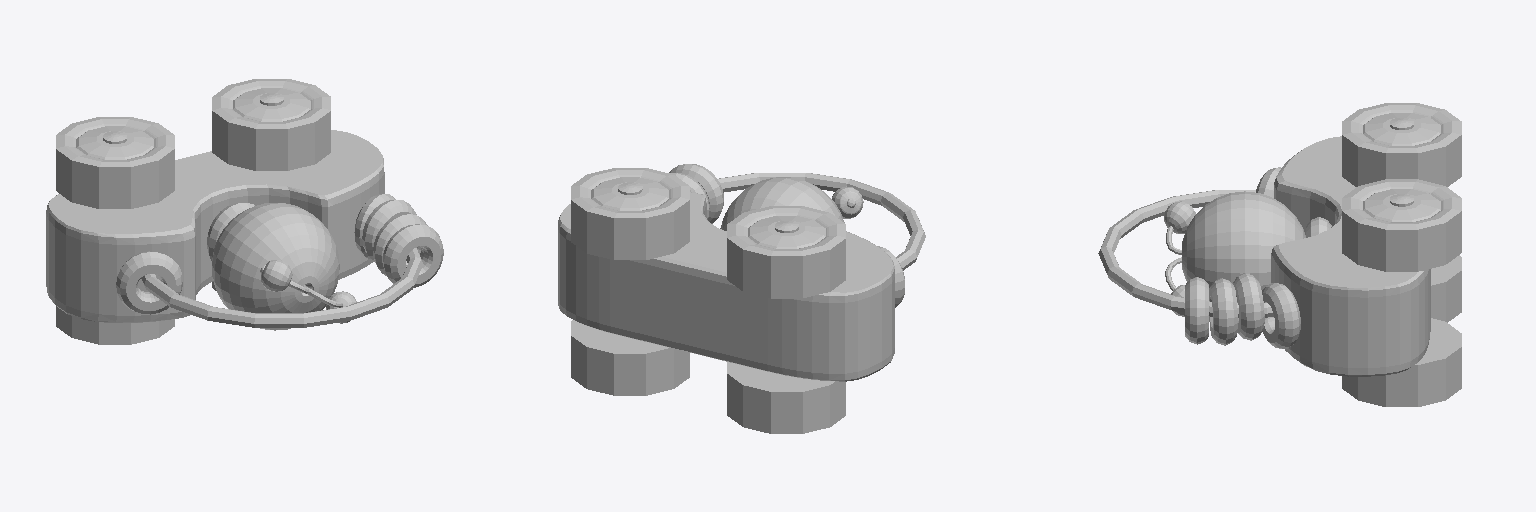
The model's file is wooden_car.obj.
The picture shows the model from 3 angles: view 1: azimuth 30°, elevation 25°; view 2: azimuth 150°, elevation 25°; view 3: azimuth 270°, elevation 25°; orthographic projection.
Parts seen in each view (by area): view 1: wooden_car:Wood, wooden_car:Plastic, wooden_car:Wheel2, wooden_car:Wheel1; view 2: wooden_car:Wood, wooden_car:Wheel2, wooden_car:Wheel1, wooden_car:Plastic; view 3: wooden_car:Wood, wooden_car:Wheel1, wooden_car:Plastic, wooden_car:Wheel2.
Part boxes in pixels (left/top/right/bottom): wooden_car:Wood: left=46, top=130, right=384, bottom=330; wooden_car:Plastic: left=116, top=194, right=443, bottom=327; wooden_car:Wheel2: left=56, top=117, right=174, bottom=344; wooden_car:Wheel1: left=212, top=79, right=330, bottom=290; wooden_car:Wood: left=558, top=177, right=894, bottom=381; wooden_car:Wheel2: left=727, top=206, right=845, bottom=433; wooden_car:Wheel1: left=571, top=168, right=689, bottom=395; wooden_car:Plastic: left=669, top=164, right=925, bottom=307; wooden_car:Wood: left=1182, top=136, right=1430, bottom=376; wooden_car:Wheel1: left=1342, top=179, right=1461, bottom=406; wooden_car:Plastic: left=1098, top=167, right=1331, bottom=348; wooden_car:Wheel2: left=1342, top=103, right=1461, bottom=322.
Bounding box in the file's own units: 1.64 × 0.9534 × 1.63.